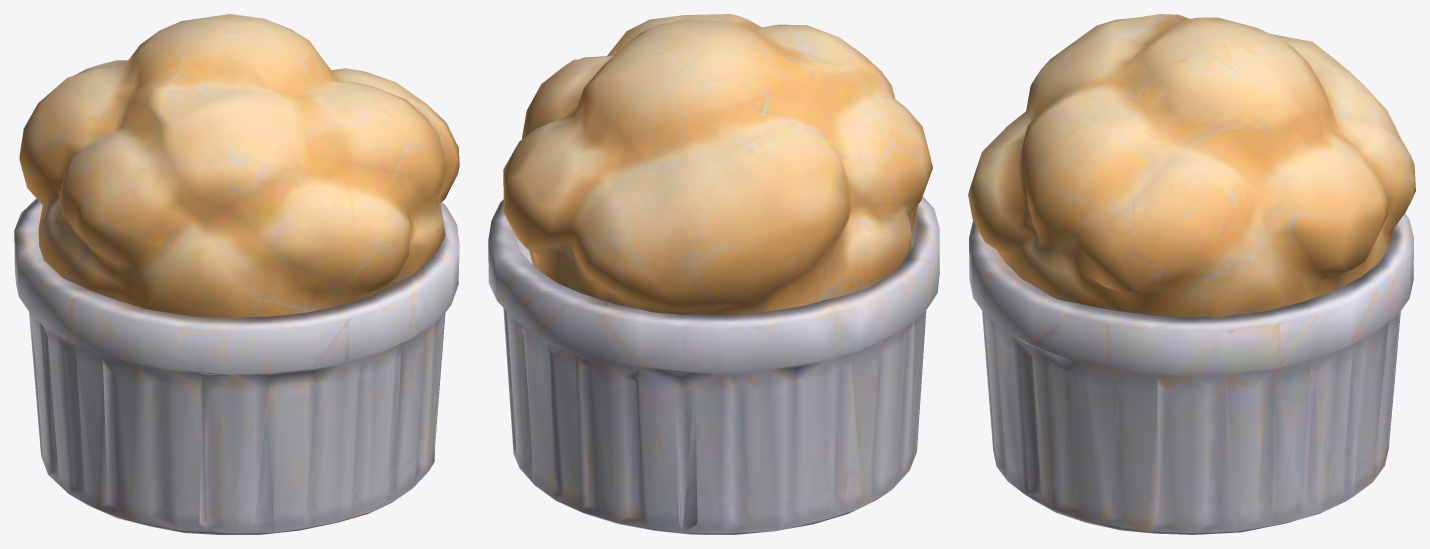
File: item-cloudSouffle.glb
The picture shows the model from 3 angles, left to right: view 1: azimuth 30°, elevation 25°; view 2: azimuth 150°, elevation 25°; view 3: azimuth 270°, elevation 25°; orthographic projection.
Bounding box in the file's own units: 0.915 × 0.9497 × 0.9185.
1 material, 1 textured.
